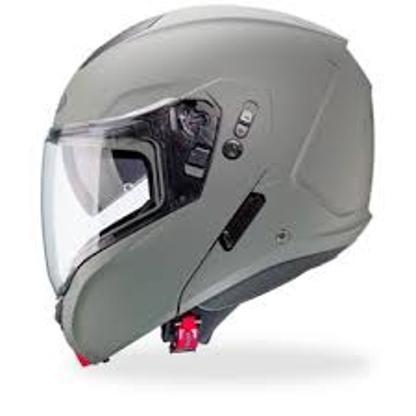not trash: (44, 2, 373, 364)
